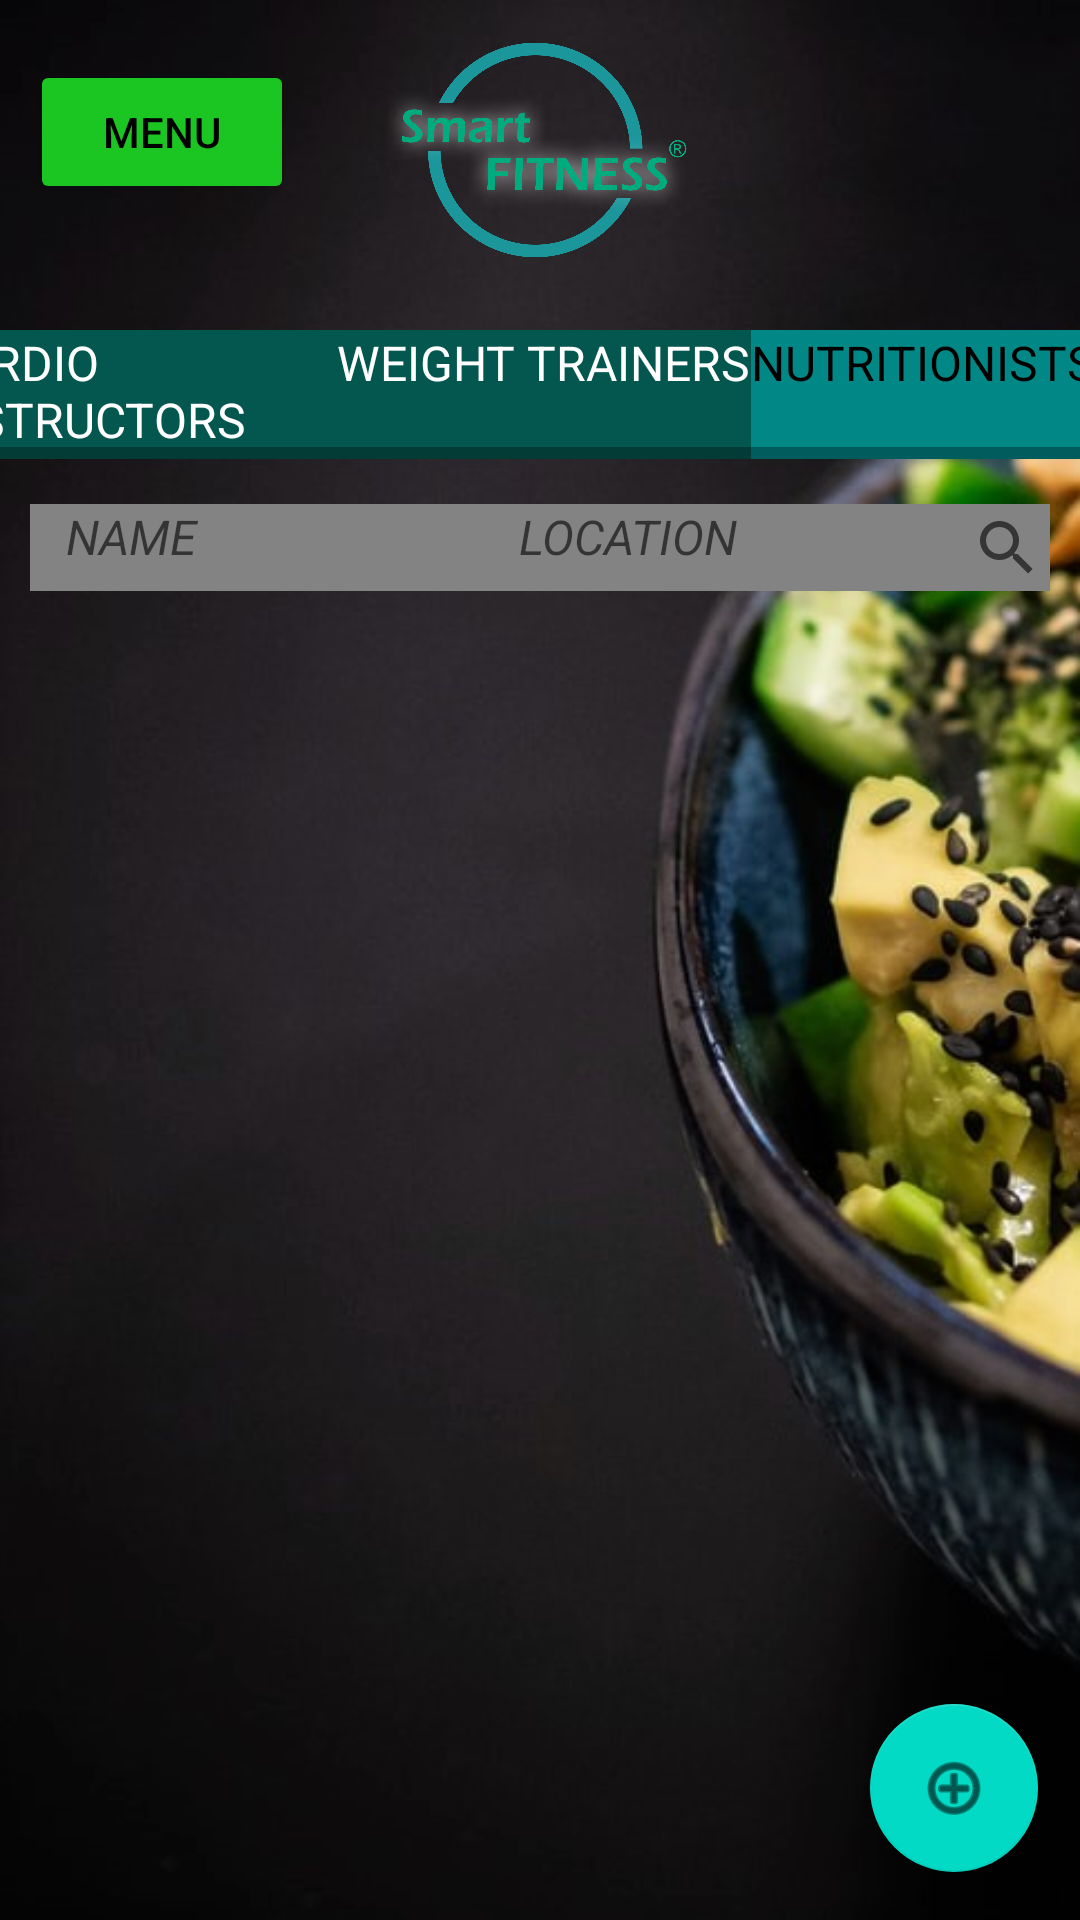

Icons on this 1080*1920 Android screen, each with its box as (x1, y1, x2, y2):
ADD: (870, 1704, 1038, 1872)
